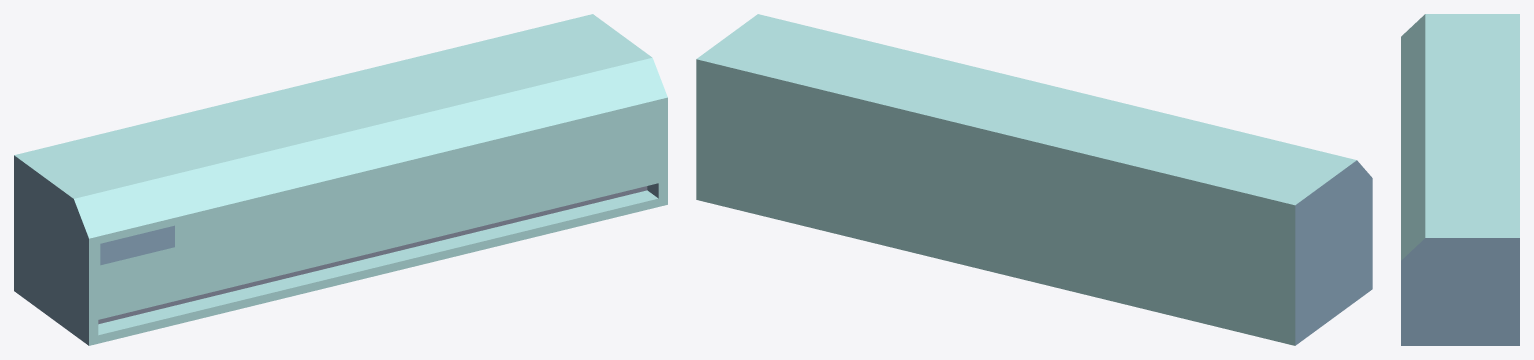
The model's file is Air Conditioner.fbx.
3 renders of one model, left to right at view 1: azimuth 30°, elevation 25°; view 2: azimuth 150°, elevation 25°; view 3: azimuth 270°, elevation 25°, orthographic. The views are drawn at different scales.
Parts seen in each view (by area): view 1: Air Conditioner; view 2: Air Conditioner; view 3: Air Conditioner.
Boxes of the visible parts, <box> form: Air Conditioner: <box>14,14,667,345</box>; Air Conditioner: <box>696,14,1372,345</box>; Air Conditioner: <box>1401,14,1519,345</box>.
Bounding box in the file's own units: 116 × 26.11 × 26.11.
